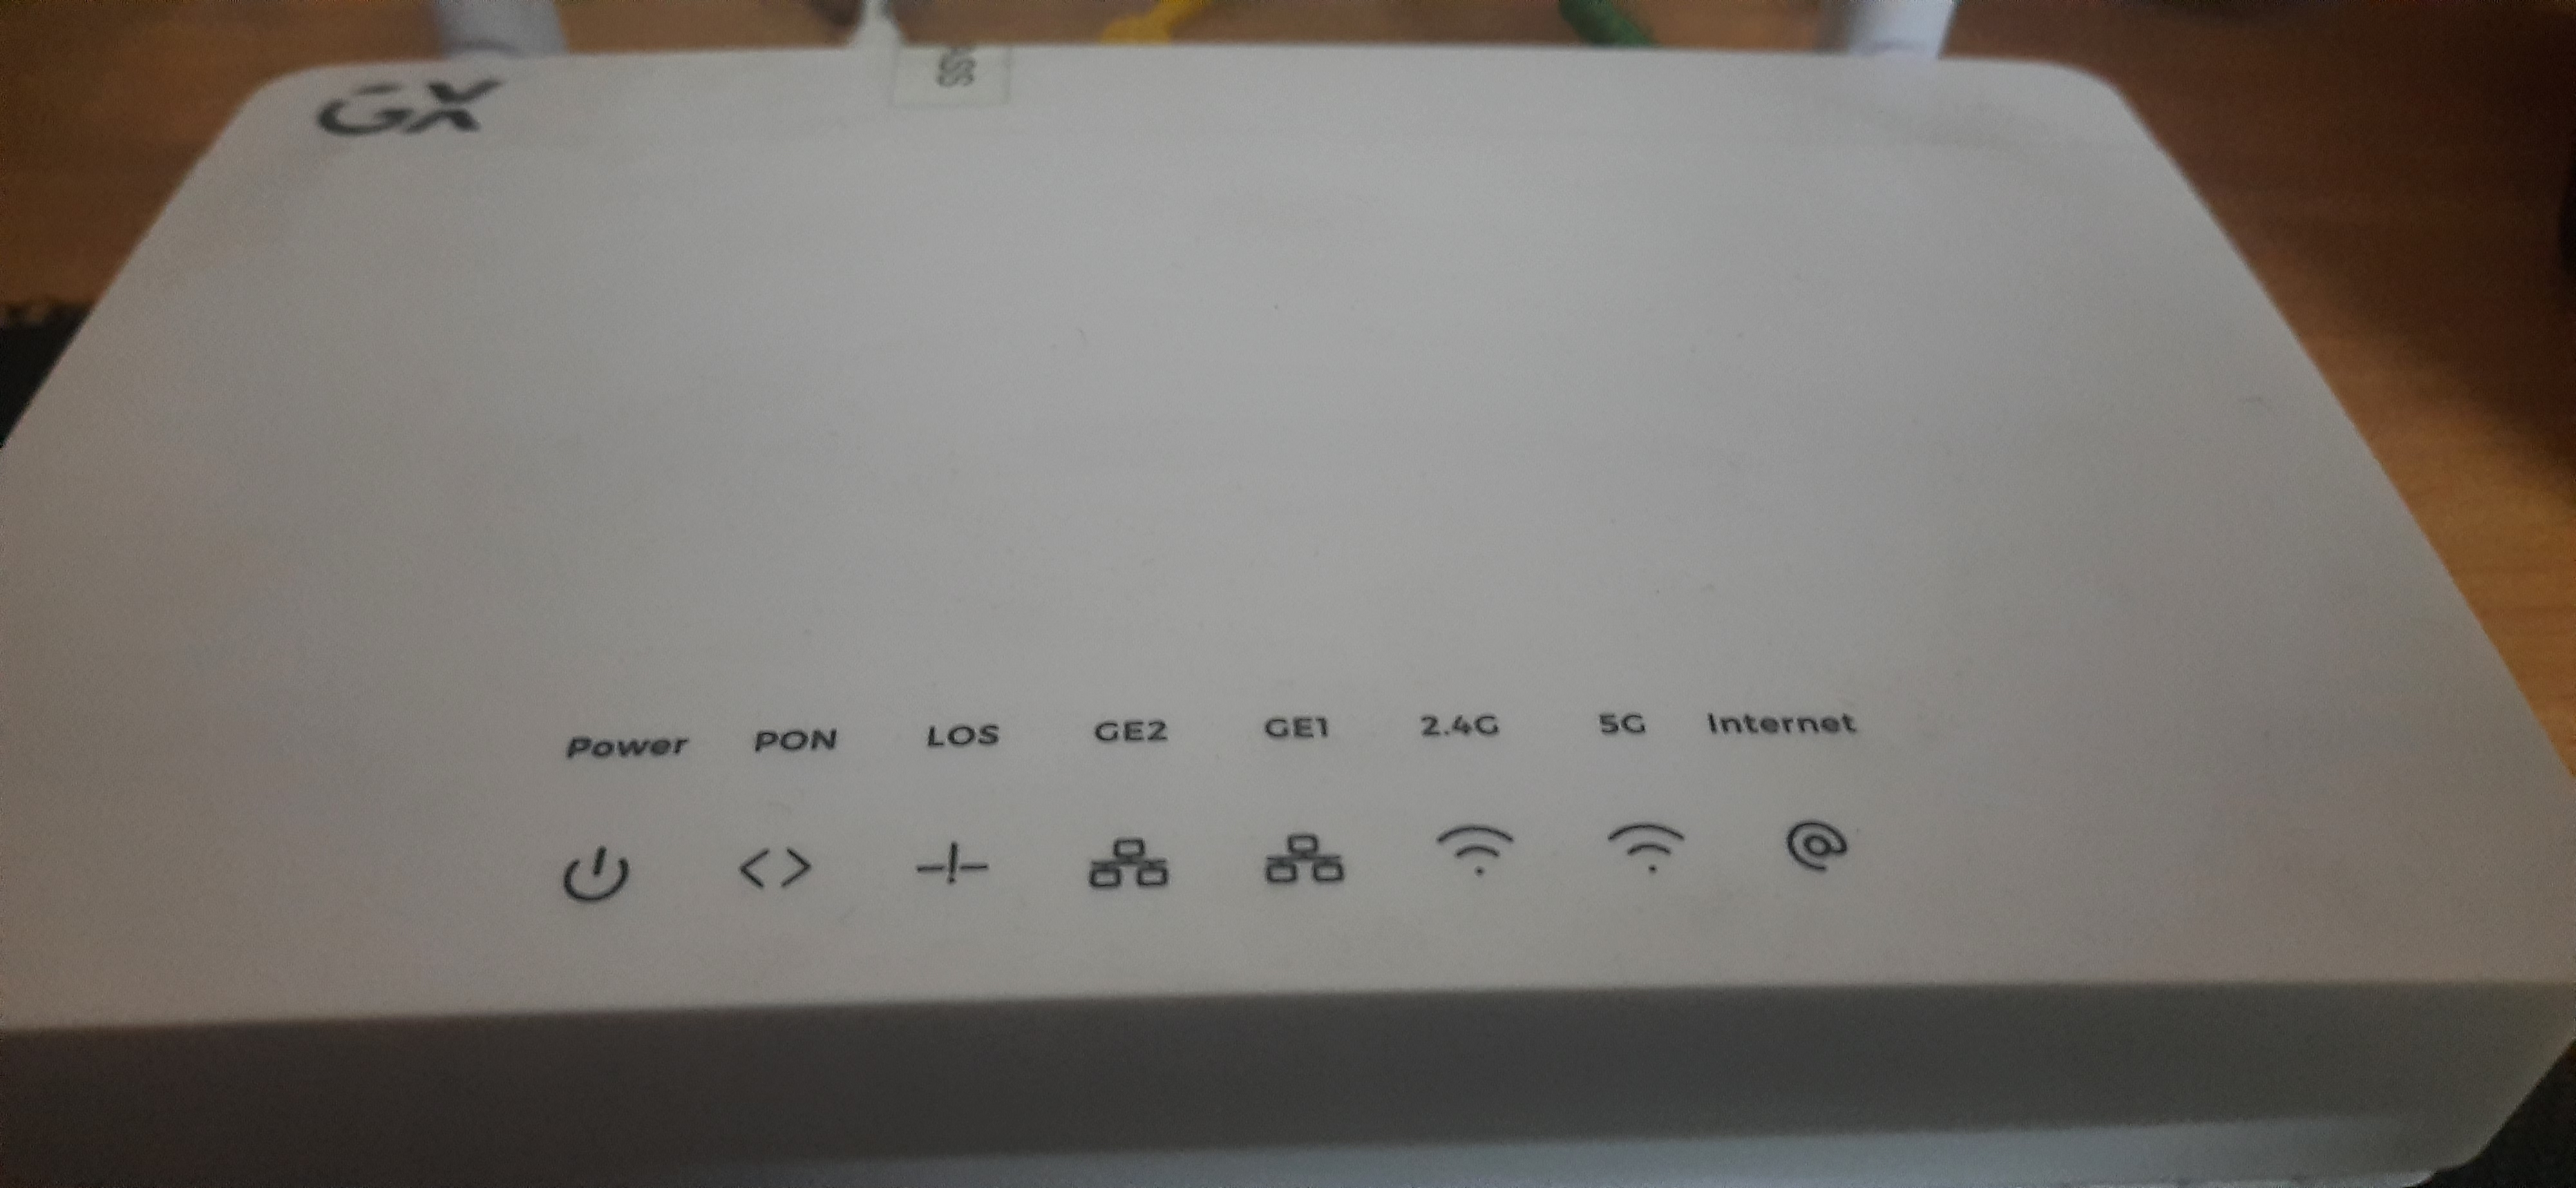WhiteWireIssue: (471, 659, 1945, 958)
